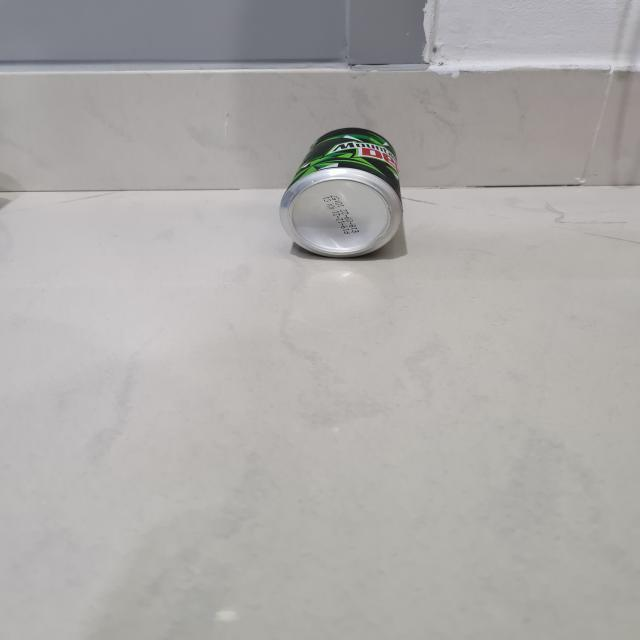Kaleng: (278, 125, 403, 258)
